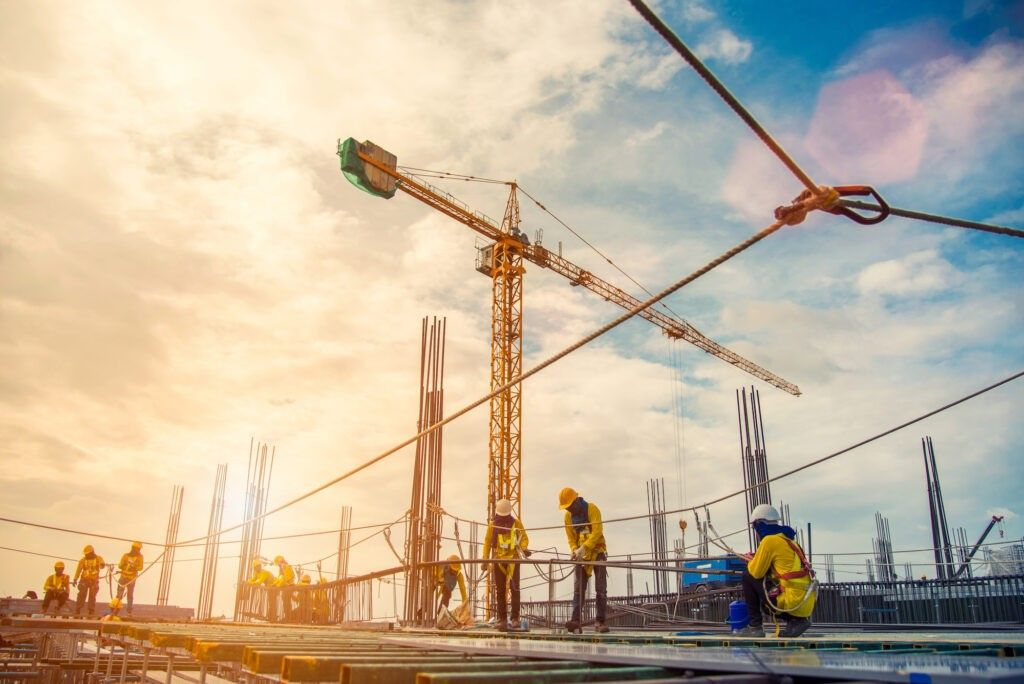crane: (289, 101, 647, 627)
hardhat: (734, 498, 789, 532), (491, 492, 519, 523), (551, 484, 585, 509), (76, 542, 105, 560), (442, 551, 465, 572), (42, 554, 66, 572), (124, 540, 147, 558), (246, 551, 261, 572)
person: (712, 497, 834, 636), (468, 487, 545, 641), (550, 481, 624, 634), (114, 543, 157, 631), (423, 544, 467, 625), (76, 530, 112, 627), (38, 532, 73, 623), (247, 547, 285, 621), (273, 550, 308, 624)
safety_vest: (746, 532, 817, 607), (557, 514, 612, 556), (484, 524, 531, 564), (77, 556, 98, 593), (45, 572, 66, 597)
